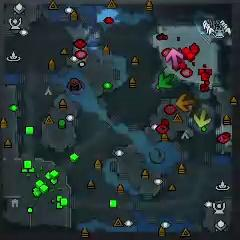x1: (165, 48, 183, 67)
x2: (194, 110, 211, 126)
x4: (158, 72, 175, 89)
x5: (176, 94, 195, 112)
